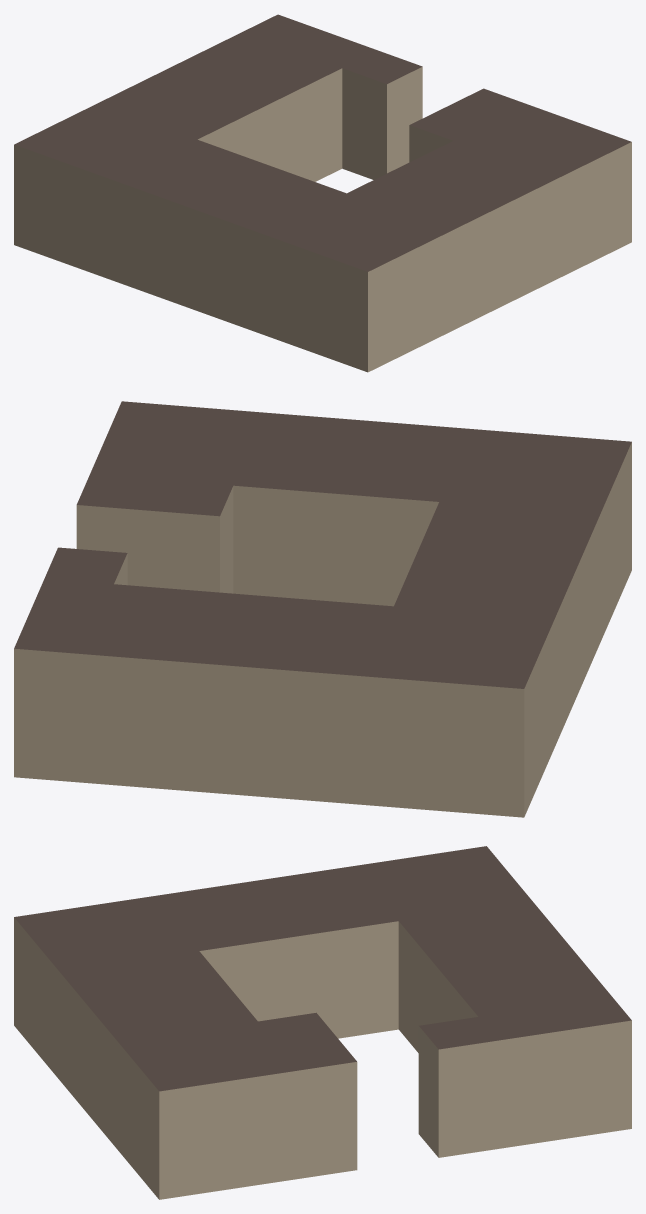
The picture shows the model from 3 angles, top to bottom: view 1: azimuth 30°, elevation 25°; view 2: azimuth 150°, elevation 25°; view 3: azimuth 270°, elevation 25°; orthographic projection. The views are drawn at different scales.
Parts seen in each view (by area): view 1: HP-w859447866; view 2: HP-w859447866; view 3: HP-w859447866.
Part boxes in pixels (x1=…): HP-w859447866: x1=14, y1=14, x2=631, y2=372; HP-w859447866: x1=14, y1=401, x2=631, y2=817; HP-w859447866: x1=14, y1=846, x2=631, y2=1199.
Size of the model in its own units: 43.7 by 9 by 46.5.
